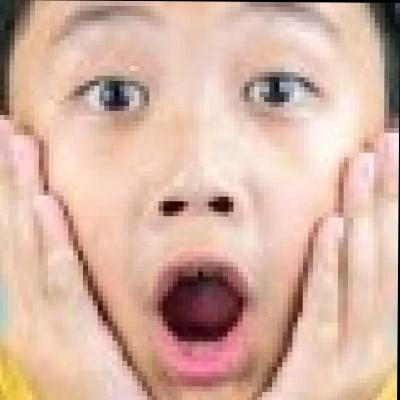surprise: (27, 4, 379, 382)
